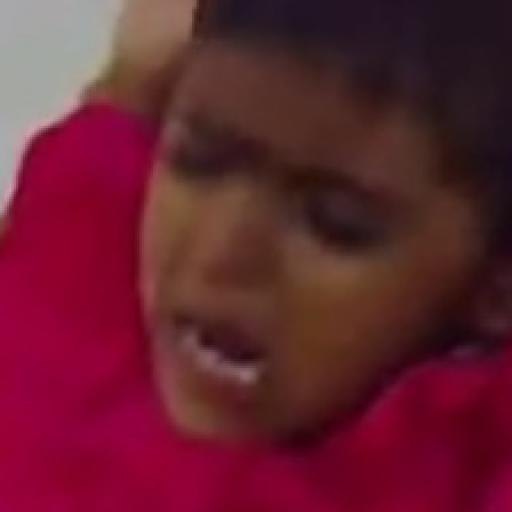Autism: (128, 2, 501, 480)
